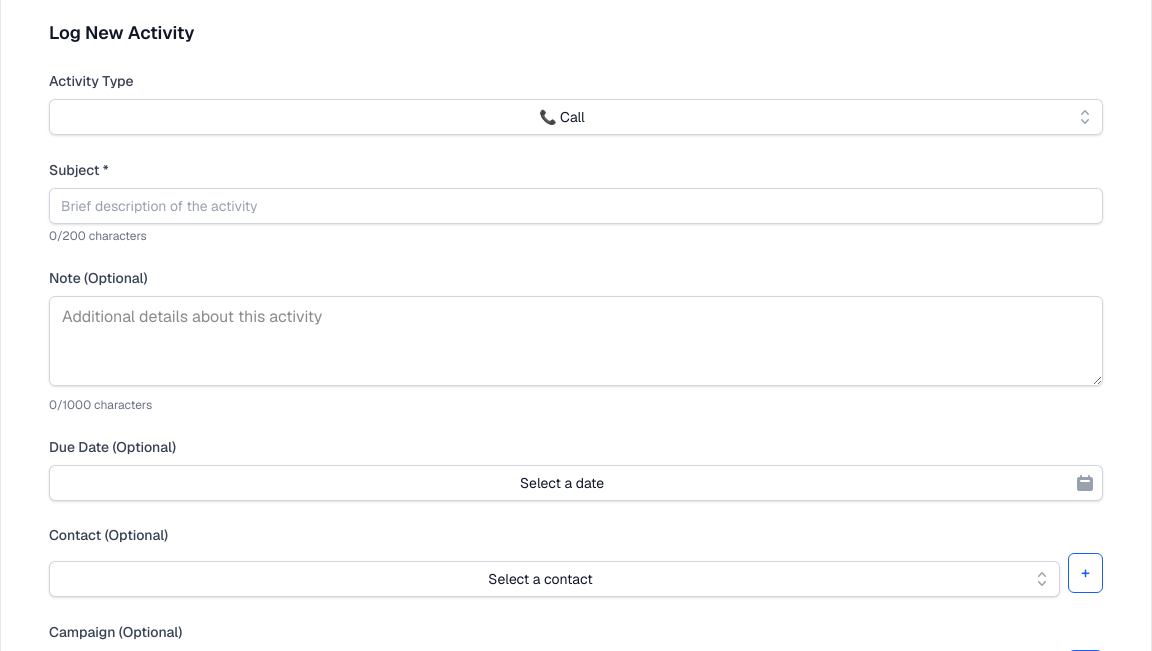
it: ActivityForm › should display contact options
This screenshot has width=1152, height=651.
Note: Open contact dropdown to see options
Click the button "Select a contact": [554, 579] box [49,561,1060,597]
(page scrolled)
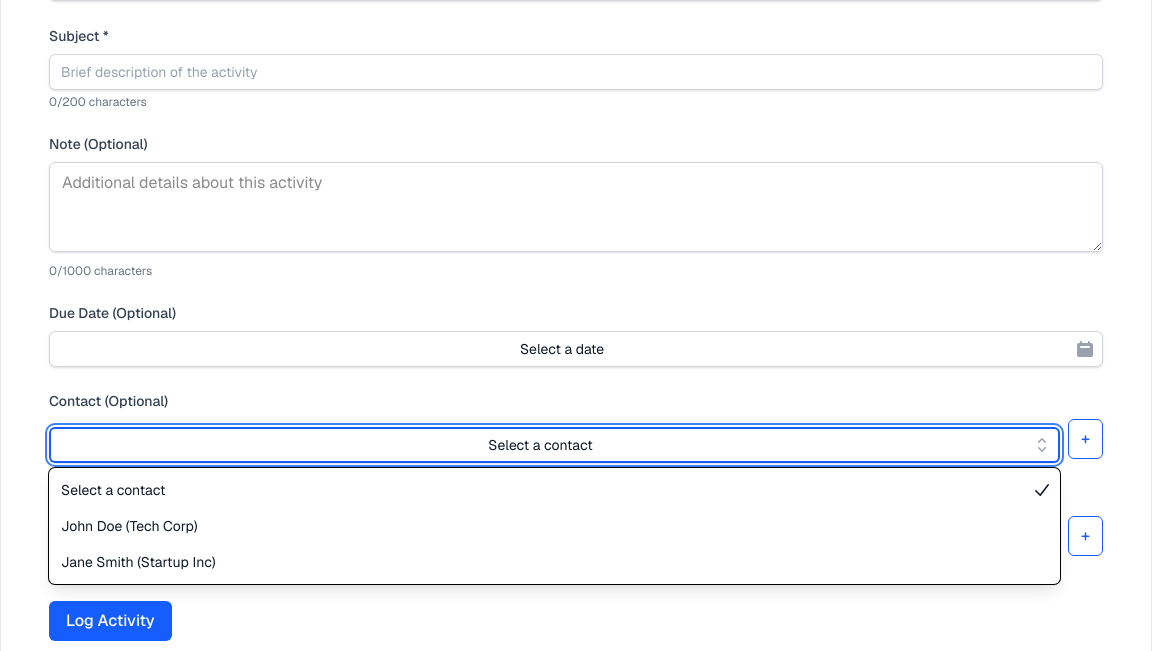
Check: the list is shown, box [49,468,1060,584]
